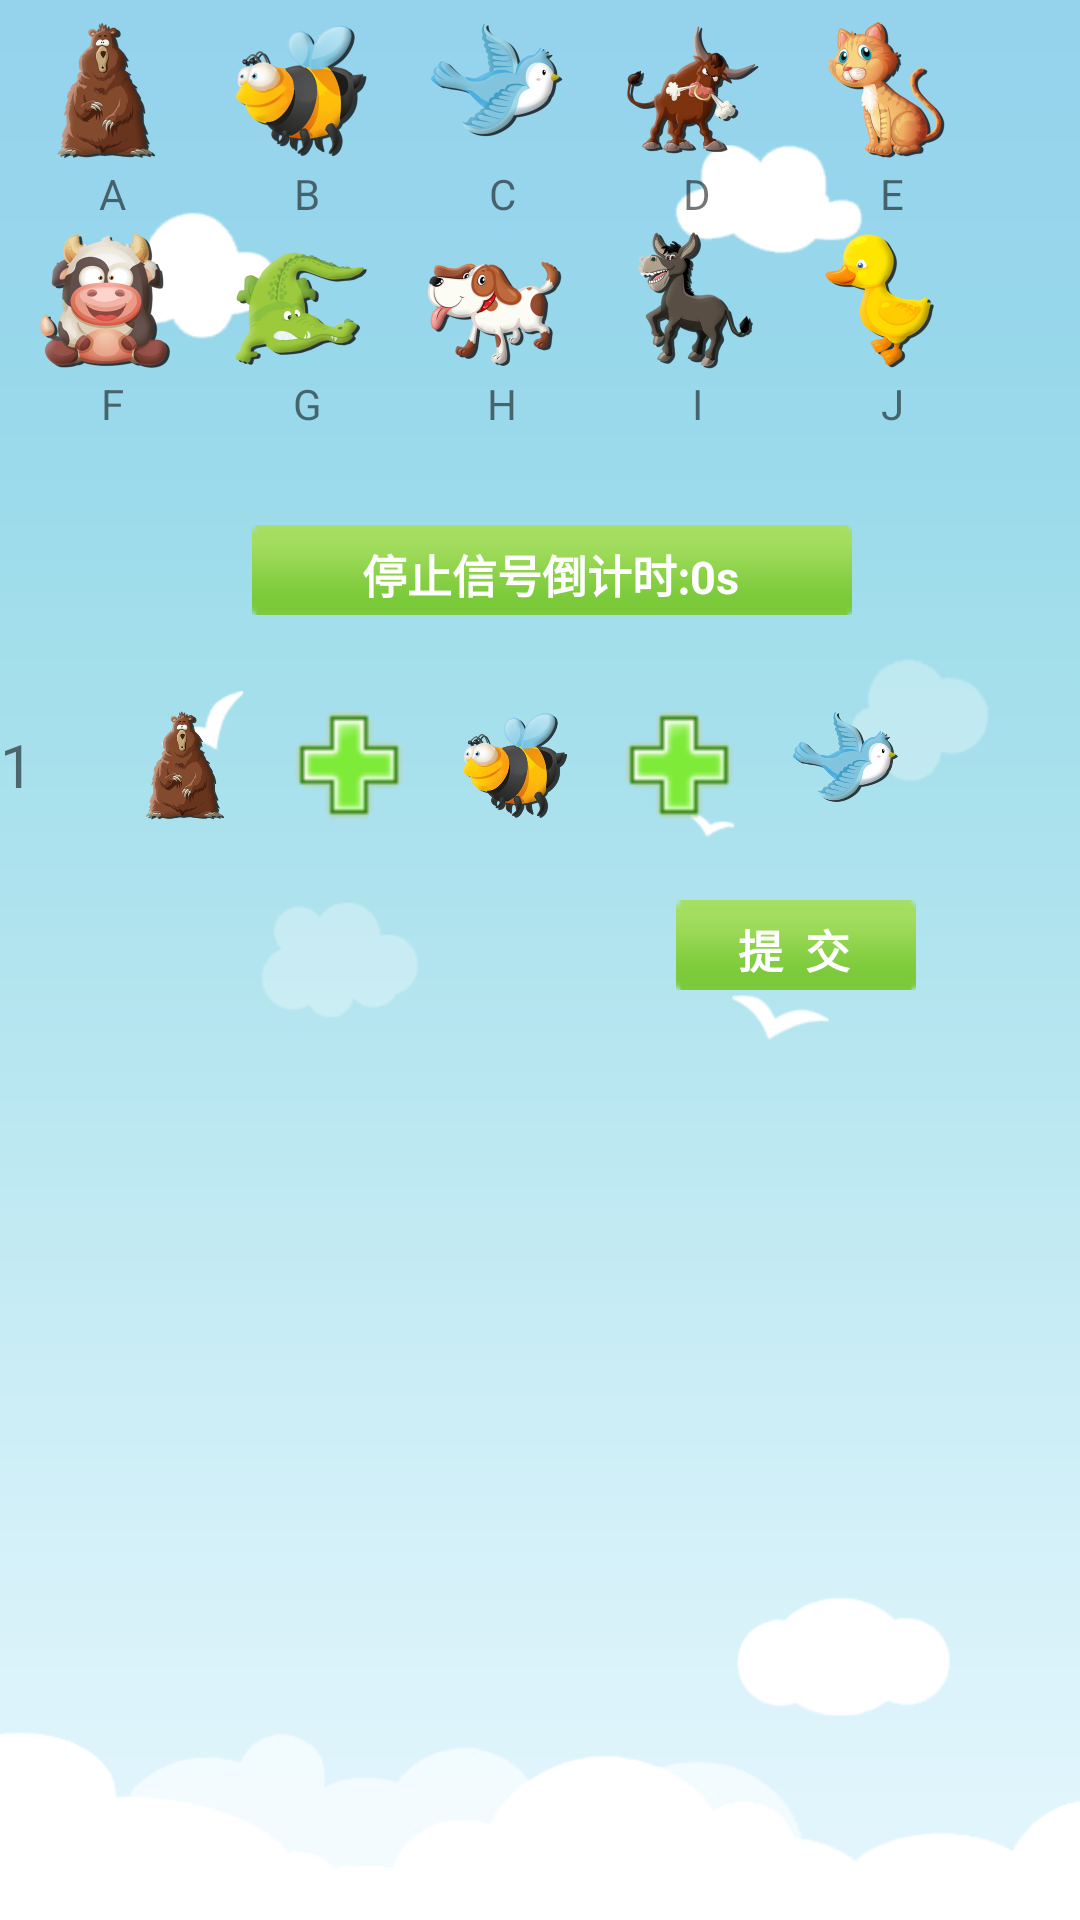

Screen size 1080 × 1920. Icon name, then its center in pixels as (x=x, y=y):
jiahao: (x=348, y=765), (x=680, y=768)
